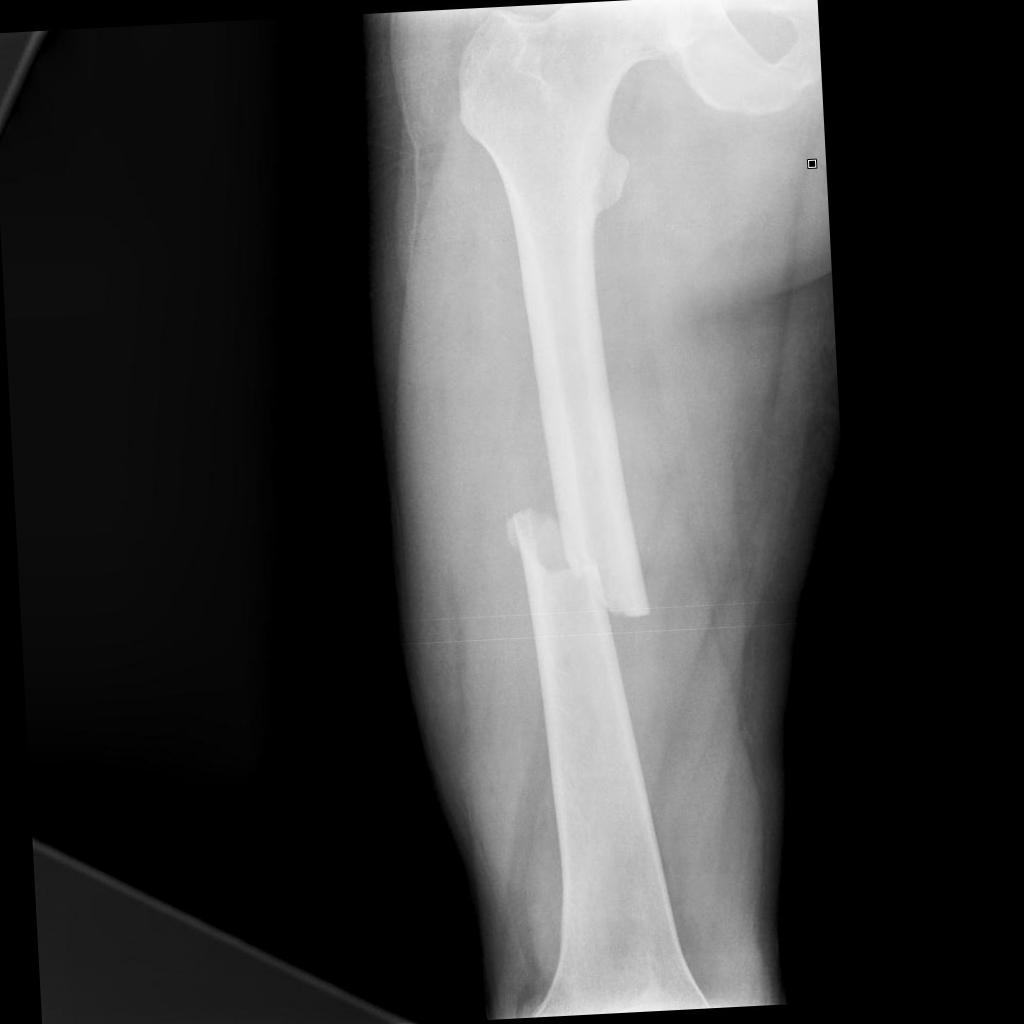messed_up_angle: (492, 480, 664, 654)
